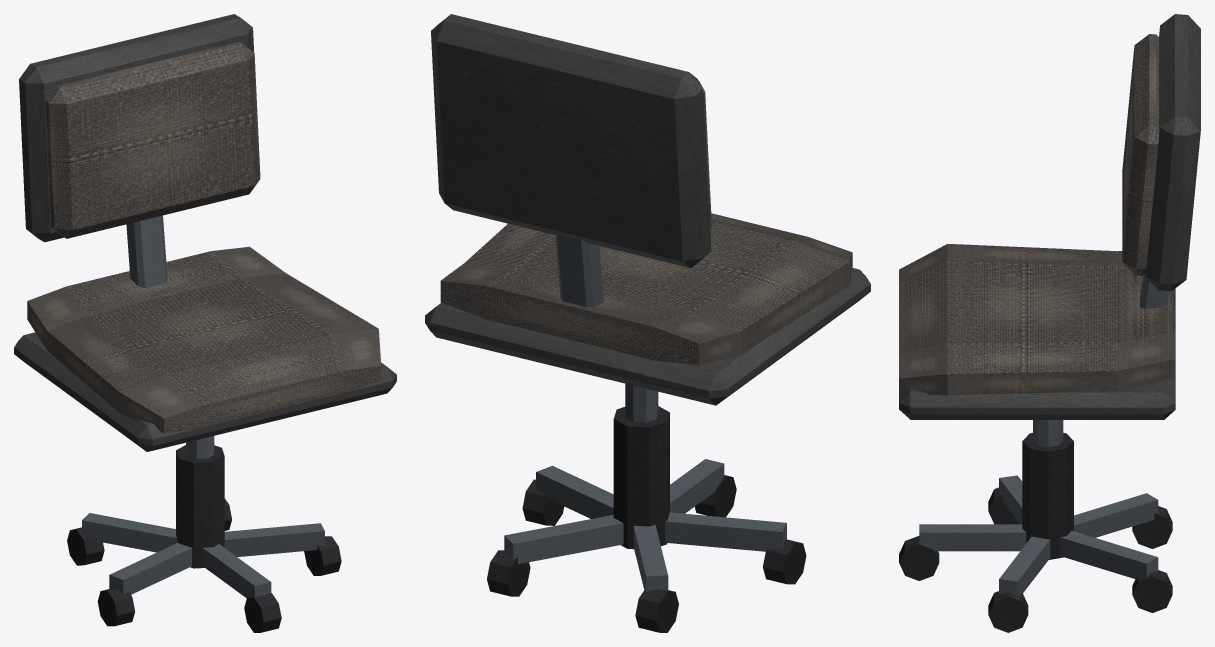
Rendered from chair.glb.
3 views of the same model, side by side, from view 1: azimuth 30°, elevation 25°; view 2: azimuth 150°, elevation 25°; view 3: azimuth 270°, elevation 25° (orthographic). The views are drawn at different scales.
Visible parts, largest first — view 1: core_chair; view 2: core_chair; view 3: core_chair.
Part boxes in pixels (x1,y1,x2,y2): core_chair: (14,14,396,632); core_chair: (425,14,870,632); core_chair: (899,14,1200,632).
Bounding box in the file's own units: 0.49 × 0.8973 × 0.4798.
Materials: 1 (1 with a texture image).
